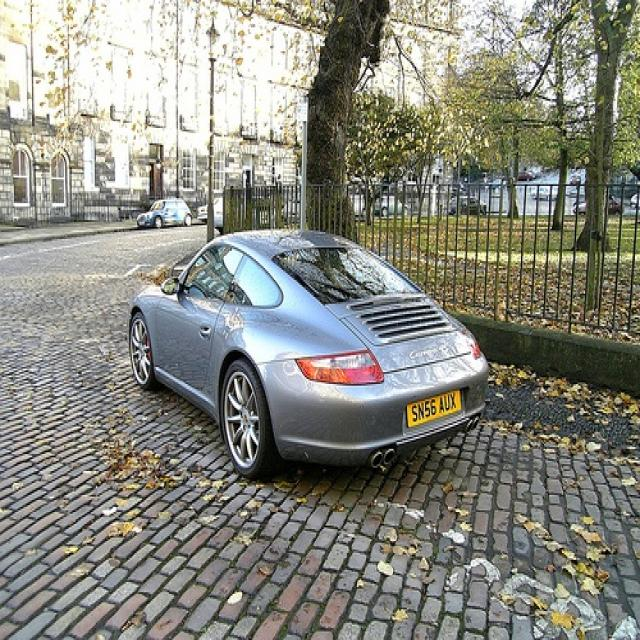car: (127, 230, 490, 483), (136, 196, 193, 229)
